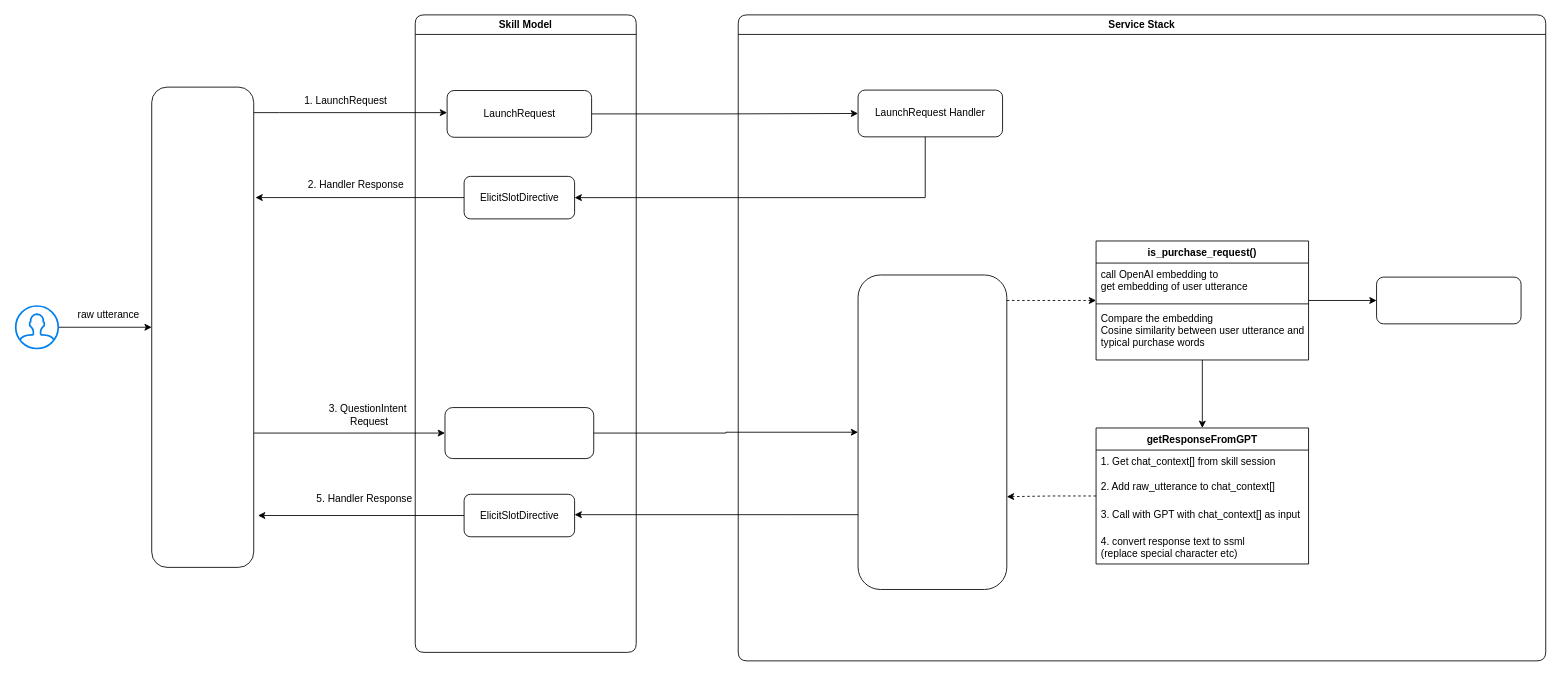
The diagram is 1561 pixels wide and 676 high, and some of its shapes have lost their labels. The shapes that lost their labels are listed below. From the top down, each one's centre as x and y in pixels, then its label:
At pixel 1448 300: "Invoke Purchase Flow".
At pixel 202 326: "Alexa NLU Engine".
At pixel 519 433: "GPT_QuestionIntent - Map utterance to question slot (AMAZON.SearchQuery)".
At pixel 932 431: "GPT_QuestionIntent Handler".
